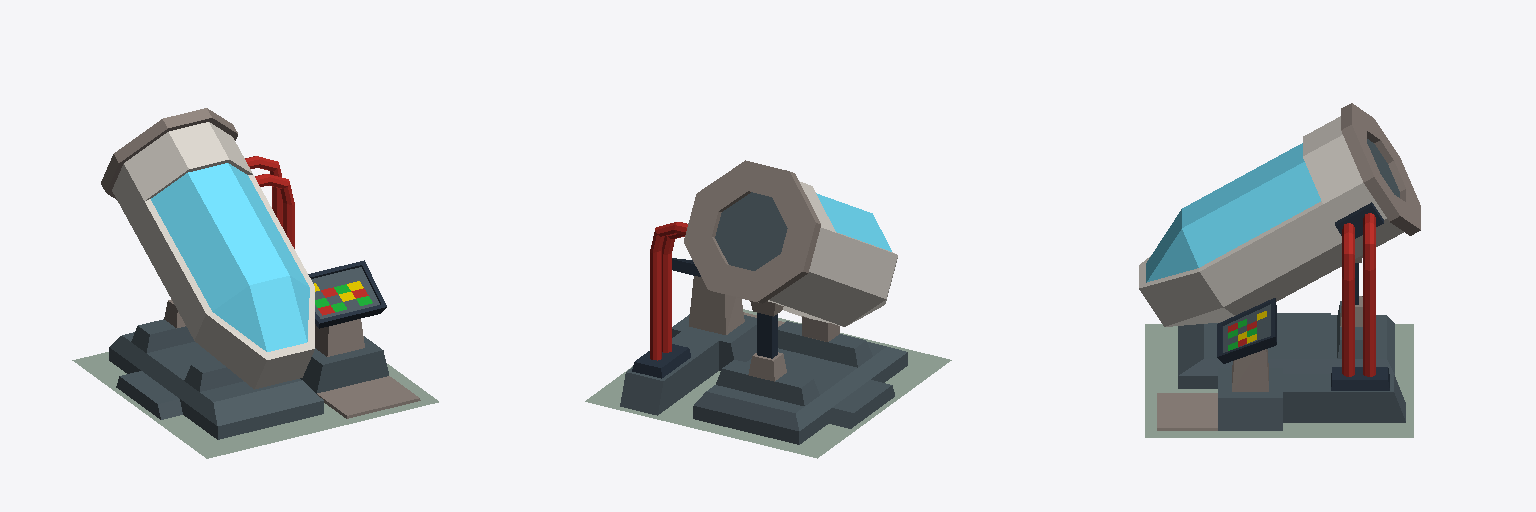
3 views of the same model, side by side, from view 1: azimuth 30°, elevation 25°; view 2: azimuth 150°, elevation 25°; view 3: azimuth 270°, elevation 25° (orthographic).
Visible parts, largest first — view 1: Circle; view 2: Circle; view 3: Circle.
Boxes of the visible parts, x1,y1,x2,y2 form: Circle: [72, 108, 438, 458]; Circle: [585, 160, 951, 458]; Circle: [1139, 103, 1420, 437].
Bounding box in the file's own units: 2 × 2.05 × 2.1.
1 materials, 1 textured.